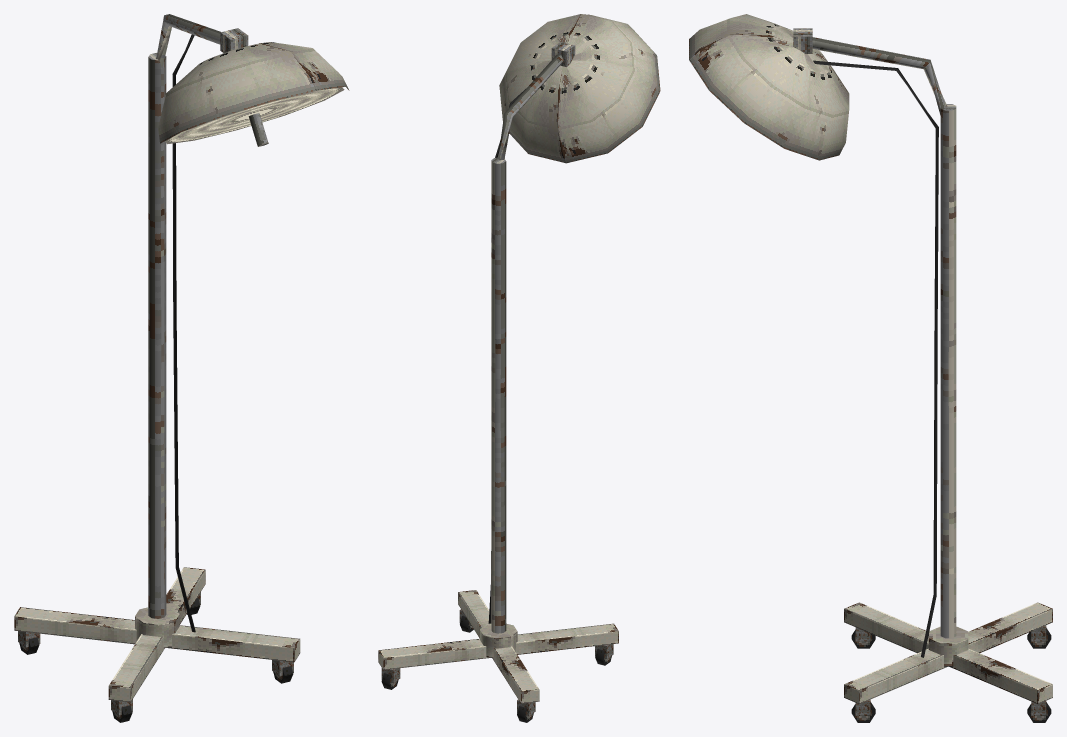
The model's file is surgical_lamp_stand.glb.
The picture shows the model from 3 angles, left to right: view 1: azimuth 30°, elevation 25°; view 2: azimuth 150°, elevation 25°; view 3: azimuth 270°, elevation 25°; orthographic projection. The views are drawn at different scales.
Visible parts, largest first — view 1: surgical_lamp_stand; view 2: surgical_lamp_stand; view 3: surgical_lamp_stand.
Boxes of the visible parts, <box> form: surgical_lamp_stand: <box>14,14,349,722</box>; surgical_lamp_stand: <box>378,14,660,722</box>; surgical_lamp_stand: <box>689,14,1052,722</box>.
Size of the model in its own units: 0.4879 by 1.69 by 0.8502.
Materials: 2 (2 with a texture image).
